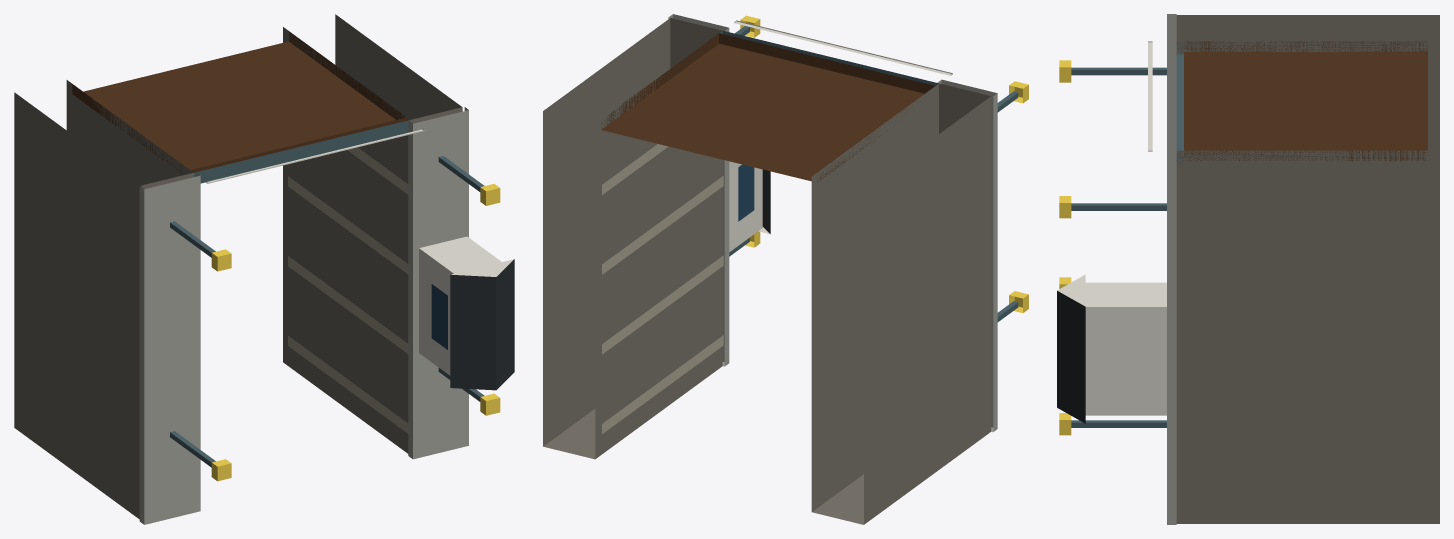
Rendered from lower.glb.
3 renders of one model, left to right at view 1: azimuth 30°, elevation 25°; view 2: azimuth 150°, elevation 25°; view 3: azimuth 270°, elevation 25°, orthographic. The views are drawn at different scales.
Parts seen in each view (by area): view 1: lock_lower; view 2: lock_lower; view 3: lock_lower.
Part boxes in pixels (box(x1,y1,x2,y2)): lock_lower: box(14, 14, 514, 524); lock_lower: box(543, 14, 1028, 524); lock_lower: box(1057, 14, 1439, 524).
Size of the model in its own units: 16.5 by 16 by 16.
